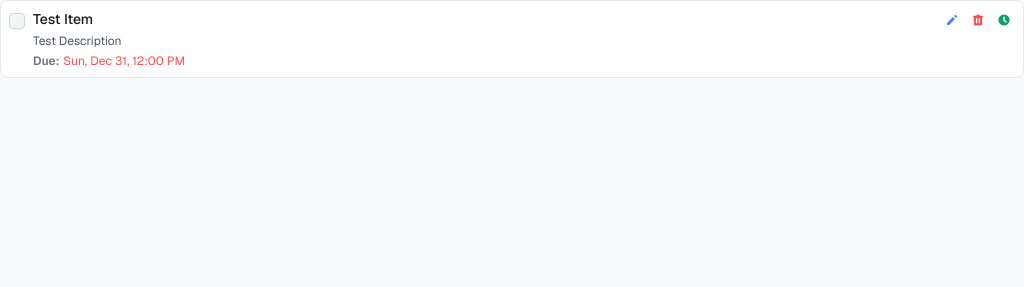
Scenario: TodoItem Component › shows edit form when edit button is clicked
Click the button titled "Edit" at {"x": 952, "y": 20}, box x1=941 y1=9 x2=963 y2=31
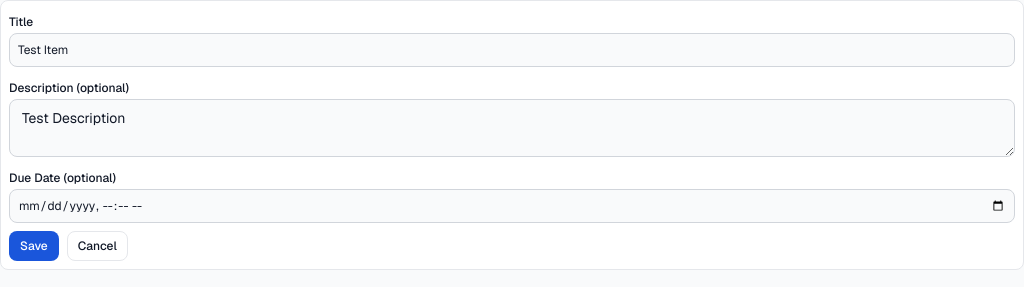
Now the field showing "Test Item" is shown, box x1=9 y1=33 x2=1015 y2=67
Now the text box showing "Test Description" is shown, box x1=9 y1=99 x2=1015 y2=157
Now the text "Save" is shown, box x1=20 y1=238 x2=48 y2=254
